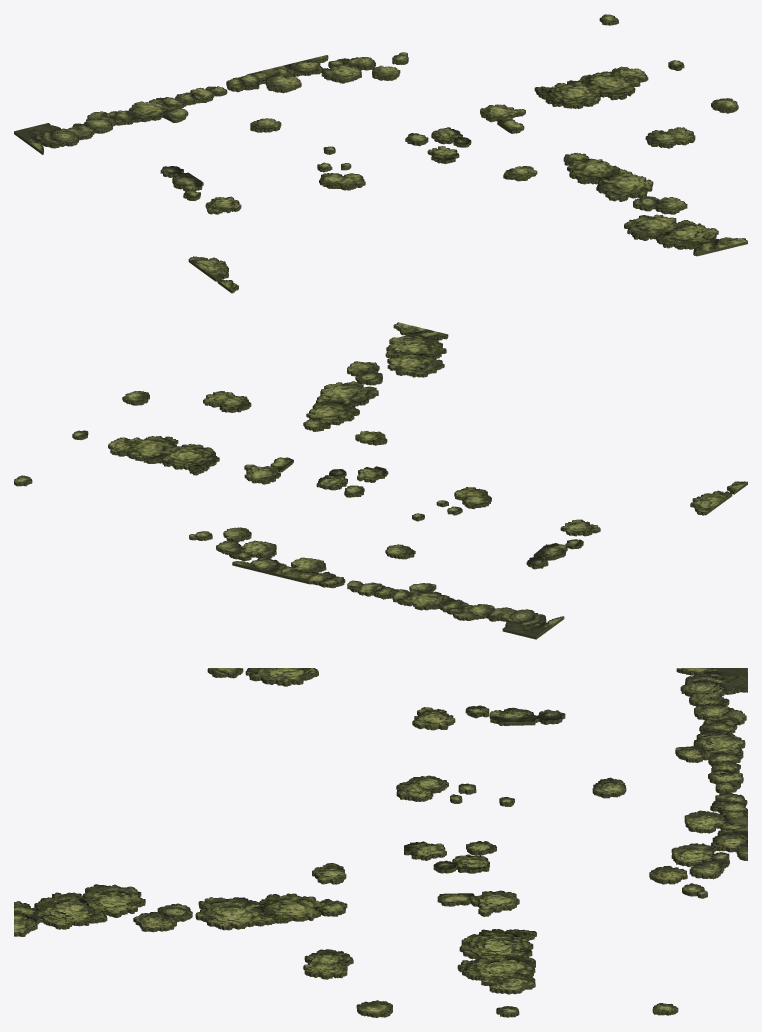
File: junior_school_trees.glb
3 renders of one model, top to bottom at view 1: azimuth 30°, elevation 25°; view 2: azimuth 150°, elevation 25°; view 3: azimuth 270°, elevation 25°, orthographic. The views are drawn at different scales.
Bounding box in the file's own units: 4286 × 21 × 3841.
54 materials, 54 textured.
